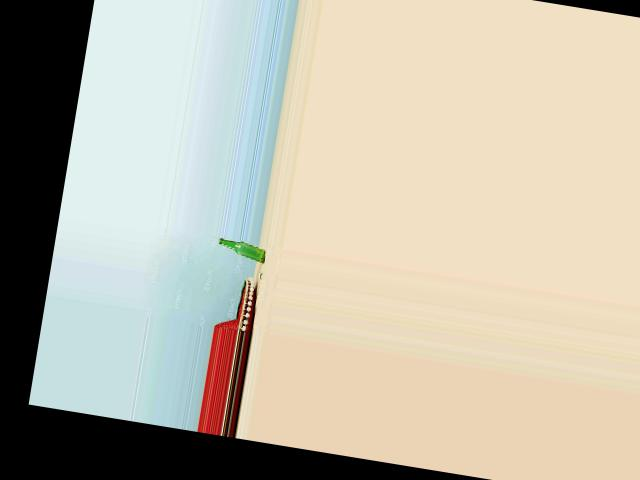beer: (216, 238, 267, 263)
